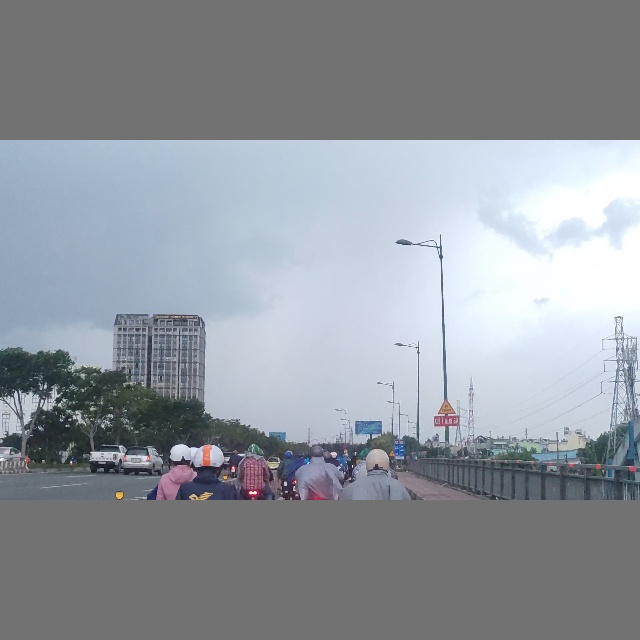W.201a: (389, 450, 396, 456)
W.245a: (437, 397, 456, 415)
